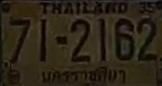1: (39, 19, 46, 61), (99, 18, 105, 60)
2: (70, 18, 90, 61), (137, 18, 156, 60)
6: (114, 18, 134, 60)
7: (10, 17, 29, 62)
NMA: (38, 65, 130, 85)
